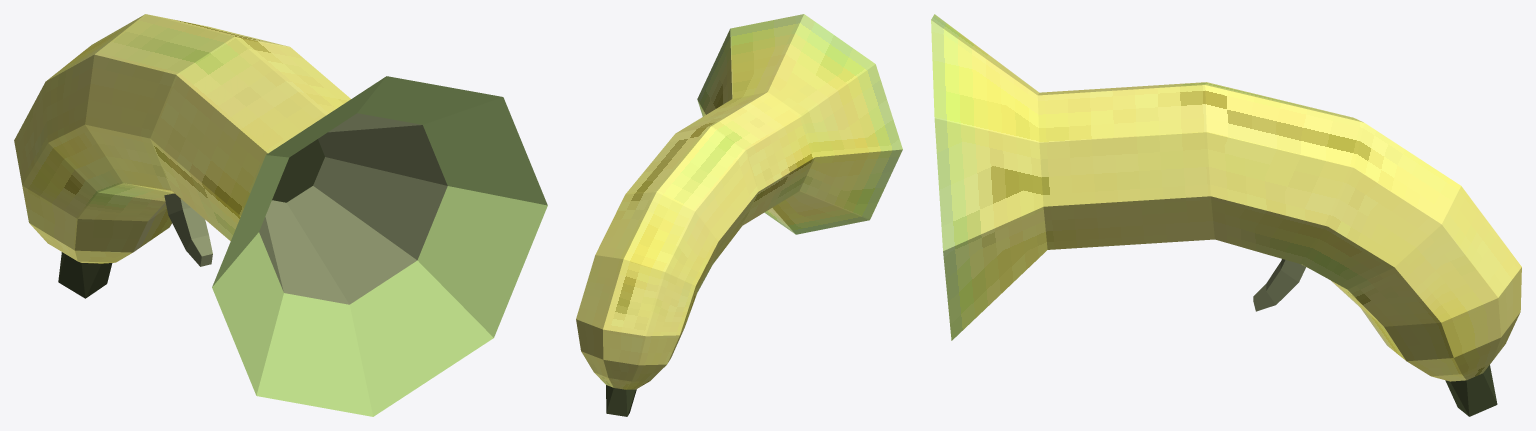
File: Platano.fbx
3 renders of one model, left to right at view 1: azimuth 30°, elevation 25°; view 2: azimuth 150°, elevation 25°; view 3: azimuth 270°, elevation 25°, orthographic. The views are drawn at different scales.
Visible parts, largest first — view 1: Platano; view 2: Platano; view 3: Platano.
Part boxes in pixels (<box>): Platano: <box>14,14,547,416</box>; Platano: <box>576,14,902,416</box>; Platano: <box>931,14,1521,416</box>.
Bounding box in the file's own units: 40.8 × 69.13 × 50.51.
Materials: 1 (1 with a texture image).
